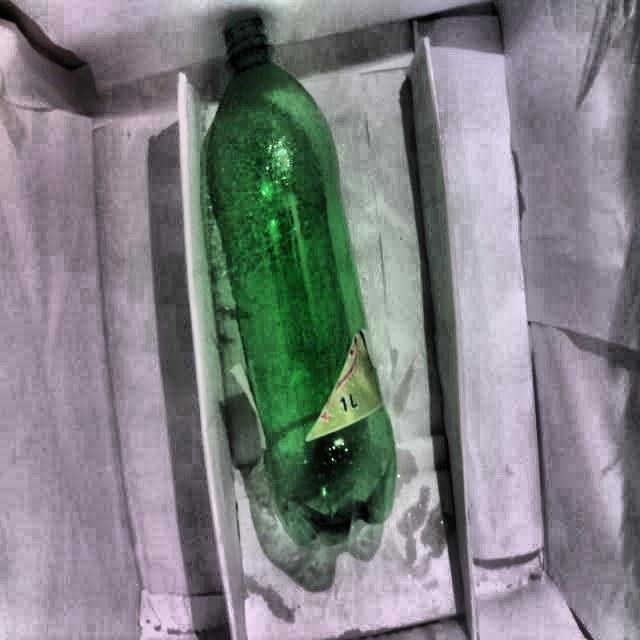plastic bottle: (208, 12, 396, 544)
